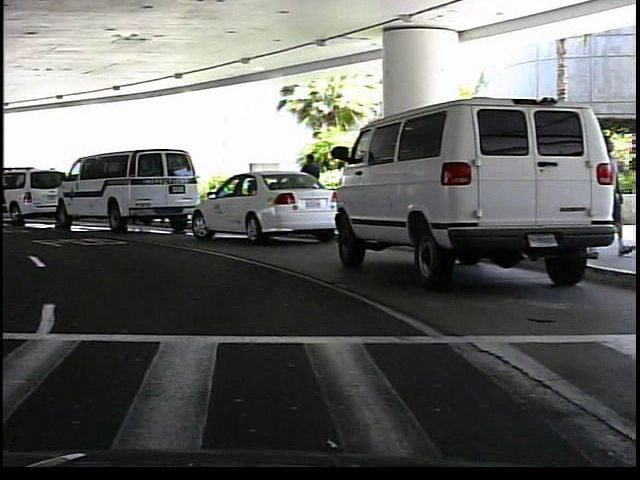person: (297, 150, 326, 224)
